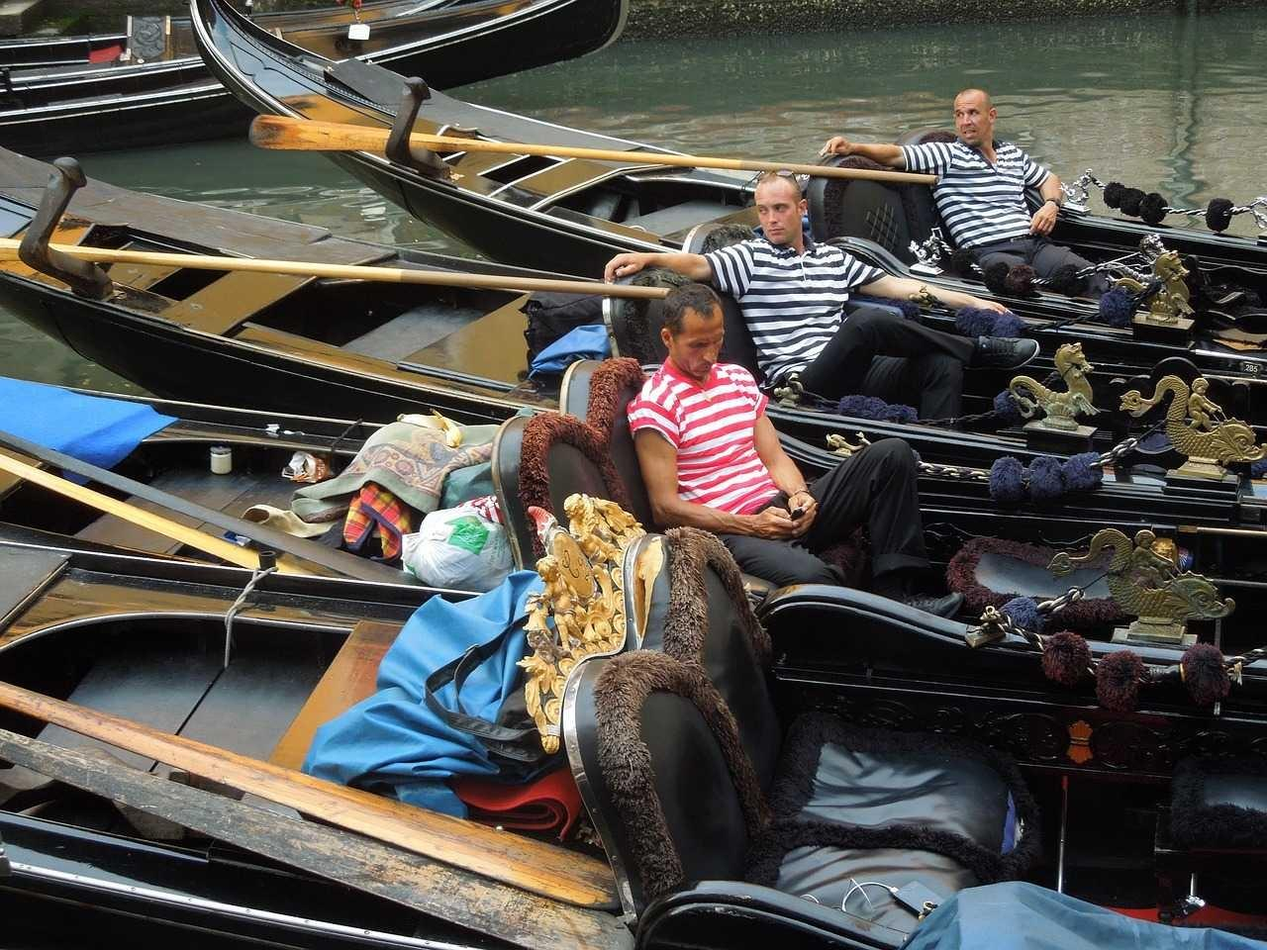kayak: (0, 97, 1267, 950), (203, 49, 1267, 416), (1, 533, 637, 948), (0, 149, 657, 428), (1, 374, 552, 605), (808, 156, 1266, 388), (188, 0, 627, 126), (1, 27, 252, 158)
